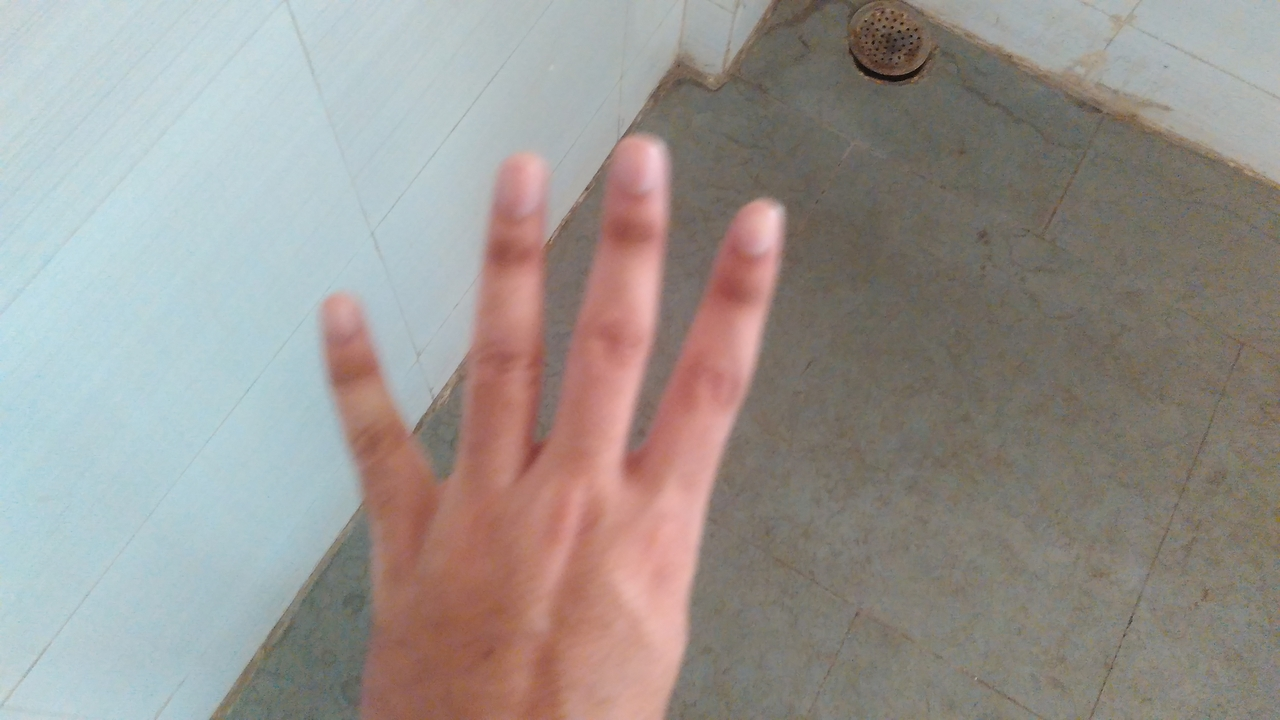fingertip: (718, 190, 796, 258), (604, 126, 674, 192), (484, 146, 554, 206), (308, 286, 372, 346)
